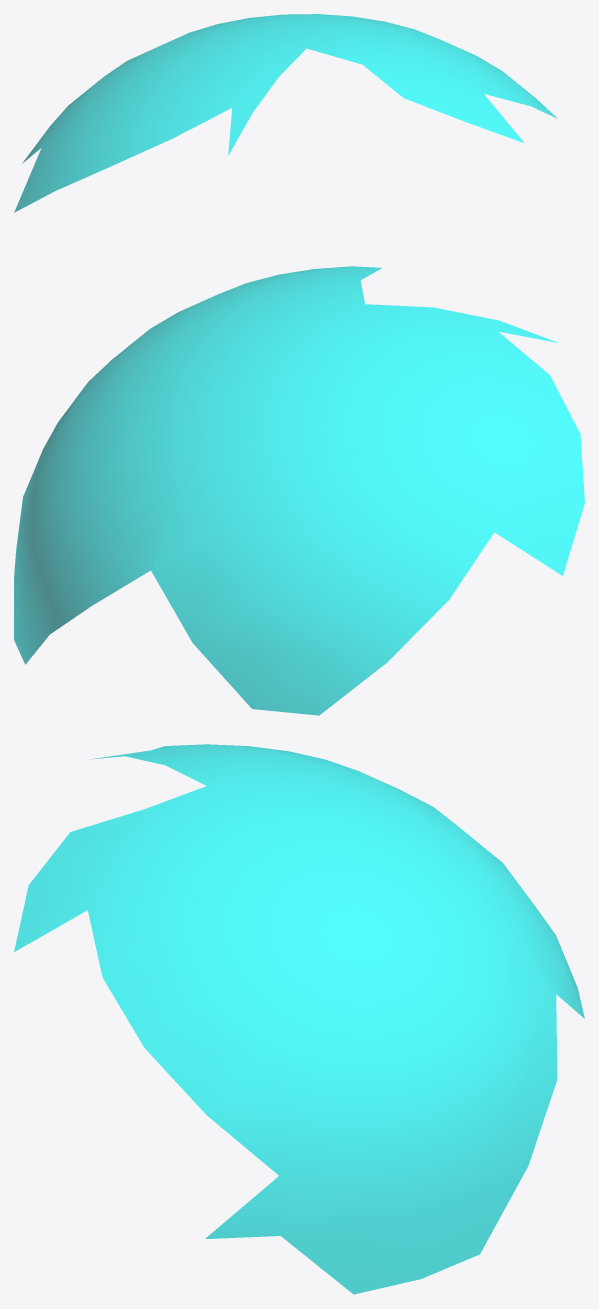
Rendered from firstFrame4.glb.
3 views of the same model, one above another, from view 1: azimuth 30°, elevation 25°; view 2: azimuth 150°, elevation 25°; view 3: azimuth 270°, elevation 25° (orthographic). The views are drawn at different scales.
Visible parts, largest first — view 1: pasted__asdfasdf; view 2: pasted__asdfasdf; view 3: pasted__asdfasdf.
Boxes of the visible parts, box(x1,y1,x2,y2) form: pasted__asdfasdf: box(14, 14, 557, 212); pasted__asdfasdf: box(14, 266, 584, 715); pasted__asdfasdf: box(14, 744, 584, 1294).
Size of the model in its own units: 1.05 by 0.5816 by 0.8414.
